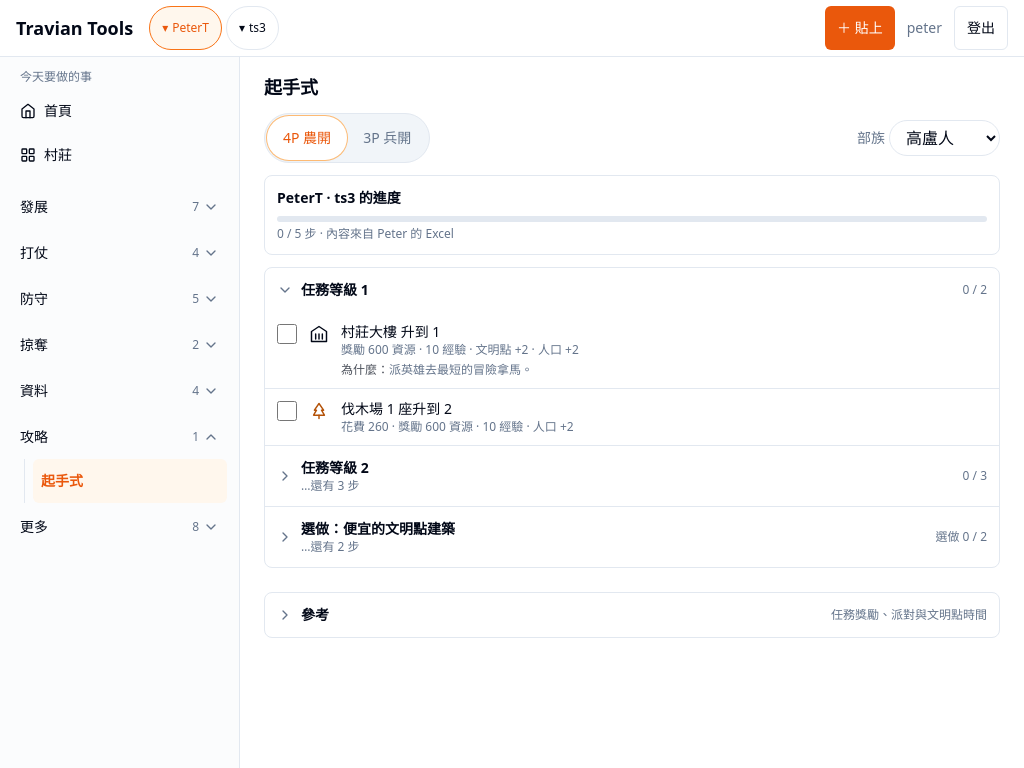
Test case: 起手式清單 (P0-10) › reverts the tick and says so when saving fails
The image size is (1024, 768).
Expected: the checkbox named "完成：村莊大樓 升到 1" is shown, [277,324,297,344]
Click the checkbox named "完成：伐木場 1 座升到 2" at [287, 411], box [277,401,297,421]
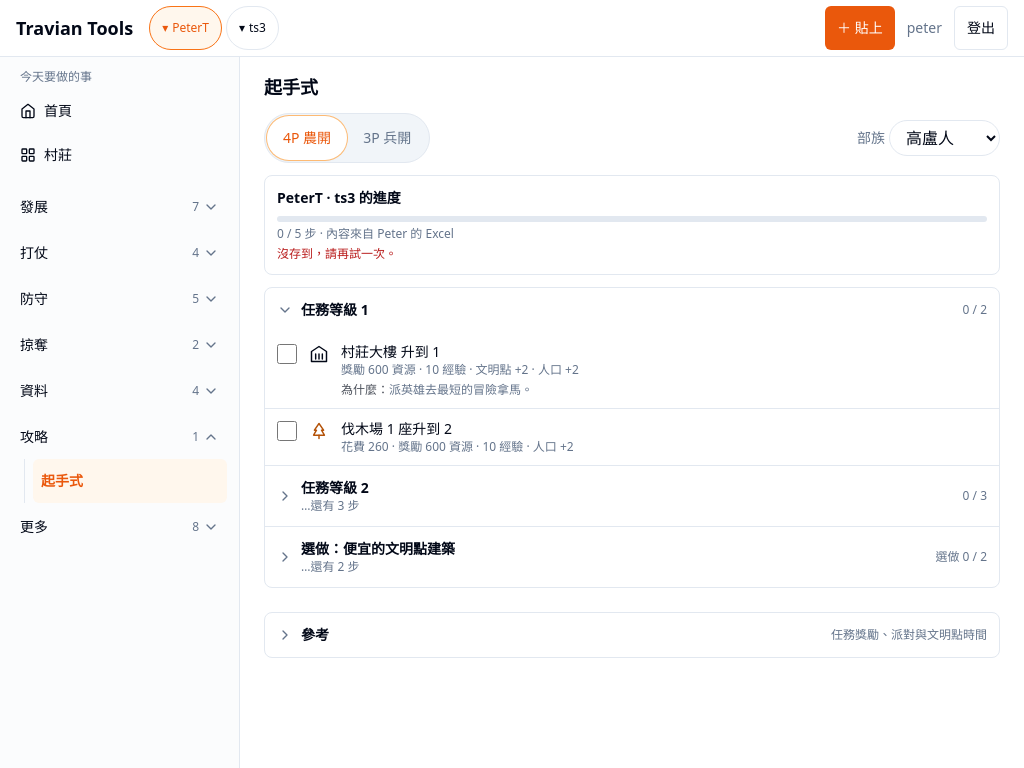
Expected: the checkbox named "完成：伐木場 1 座升到 2" is not checked, [277,421,297,441]
Now the message reads "沒存到，請再試一次。", box [277,245,397,262]
